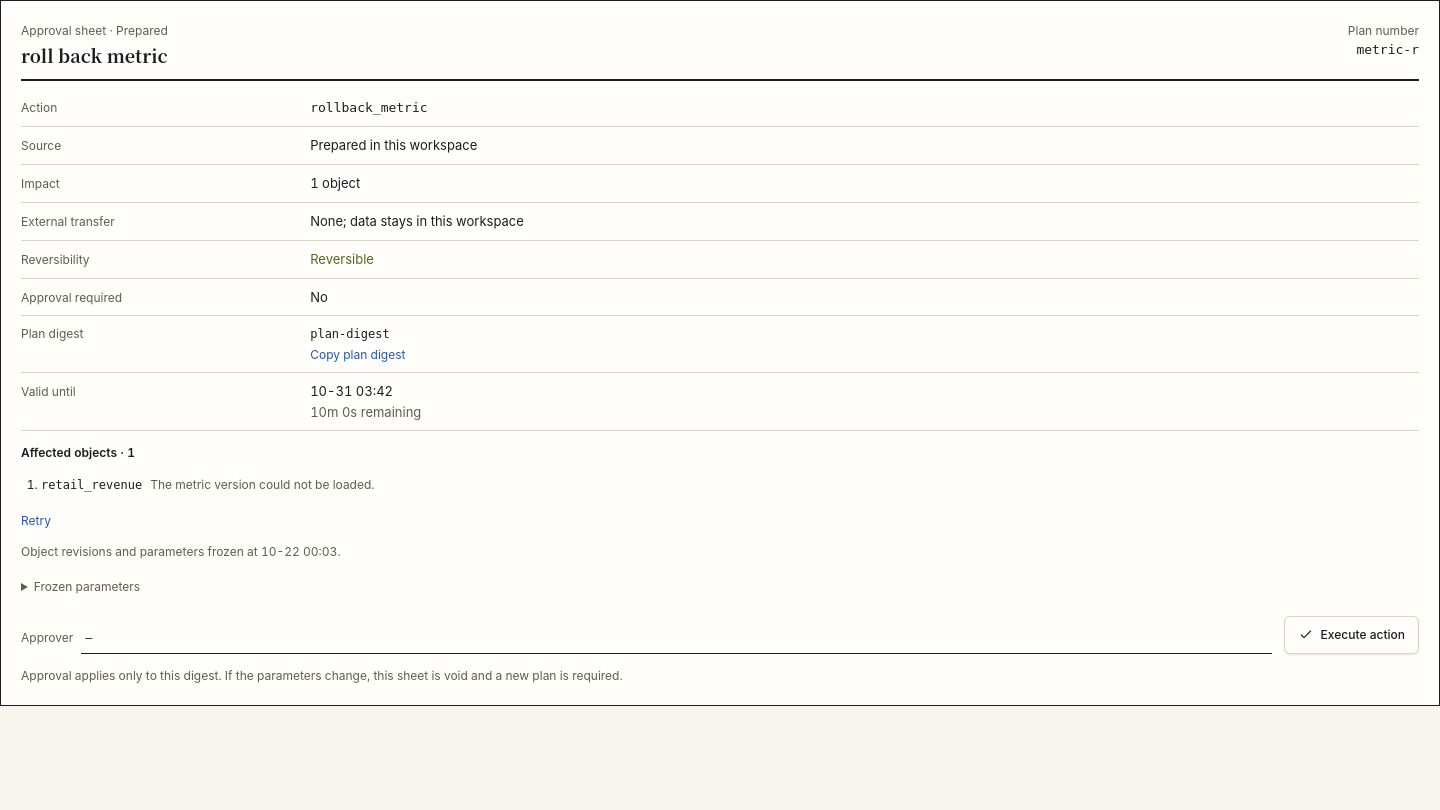
Test: shows a recoverable history error without inventing a rollback version
This screenshot has width=1440, height=810.
Check: the text "The metric version could not be loaded." is shown, box [150,477,375,492]
Click the button "Retry".
click(36, 520)  # box [21,511,51,530]
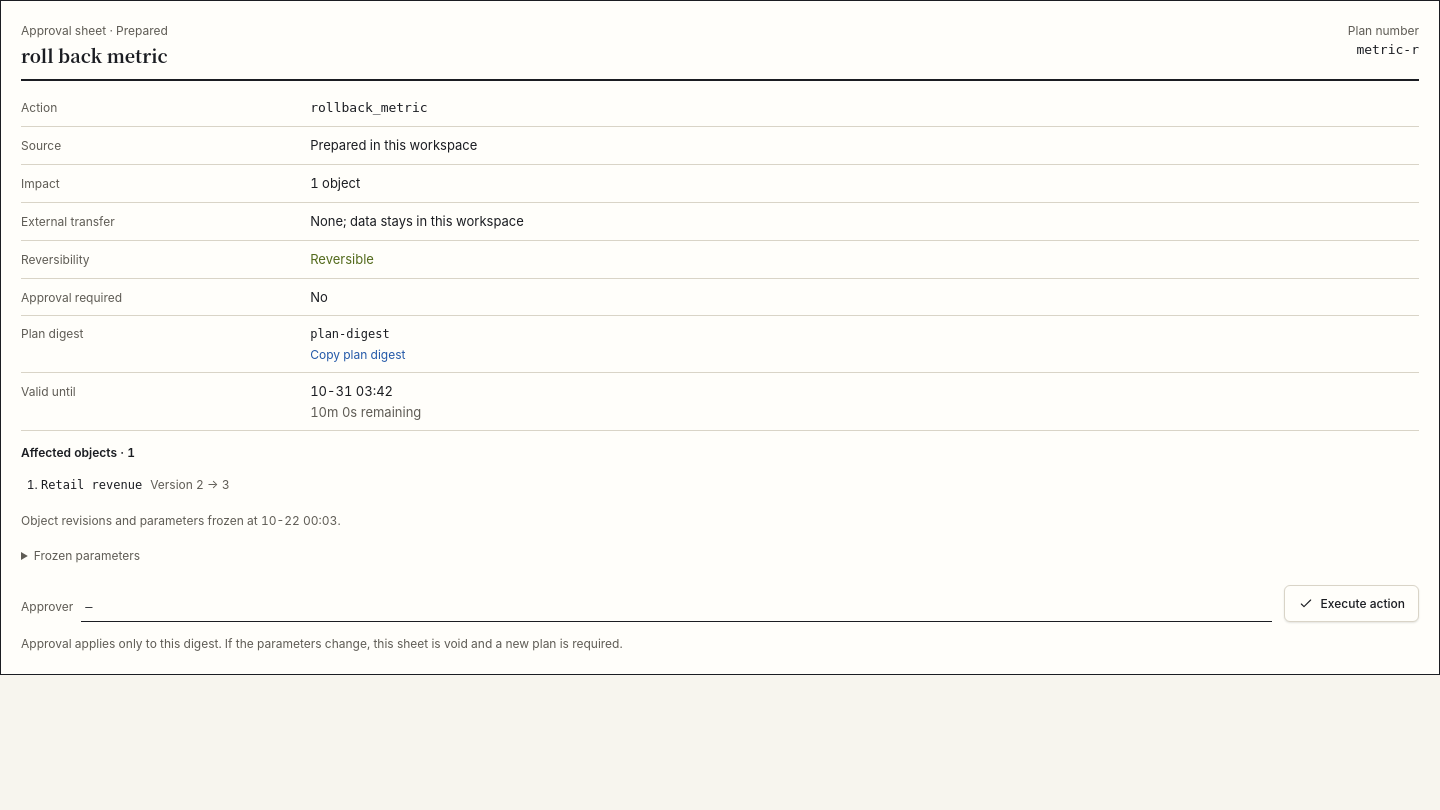
Check: the text "Version 2 → 3" is shown, box [150,477,230,492]
